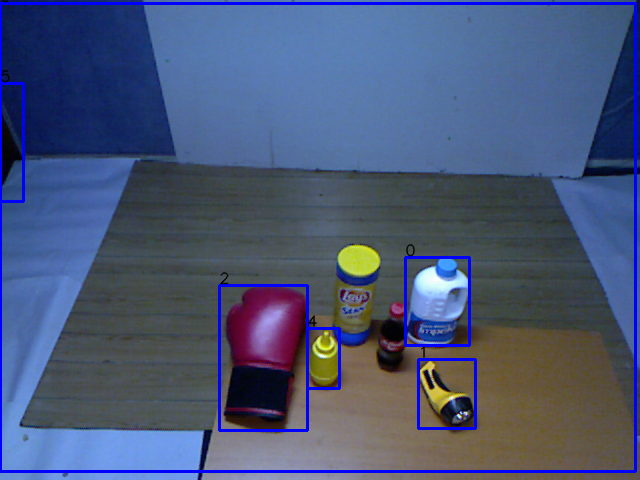cloro: (400, 253, 476, 354)
coca: (371, 300, 414, 376)
guante: (216, 281, 314, 429)
linterna: (408, 353, 483, 436)
mostaza: (303, 326, 348, 393)
papas: (325, 242, 384, 355)
